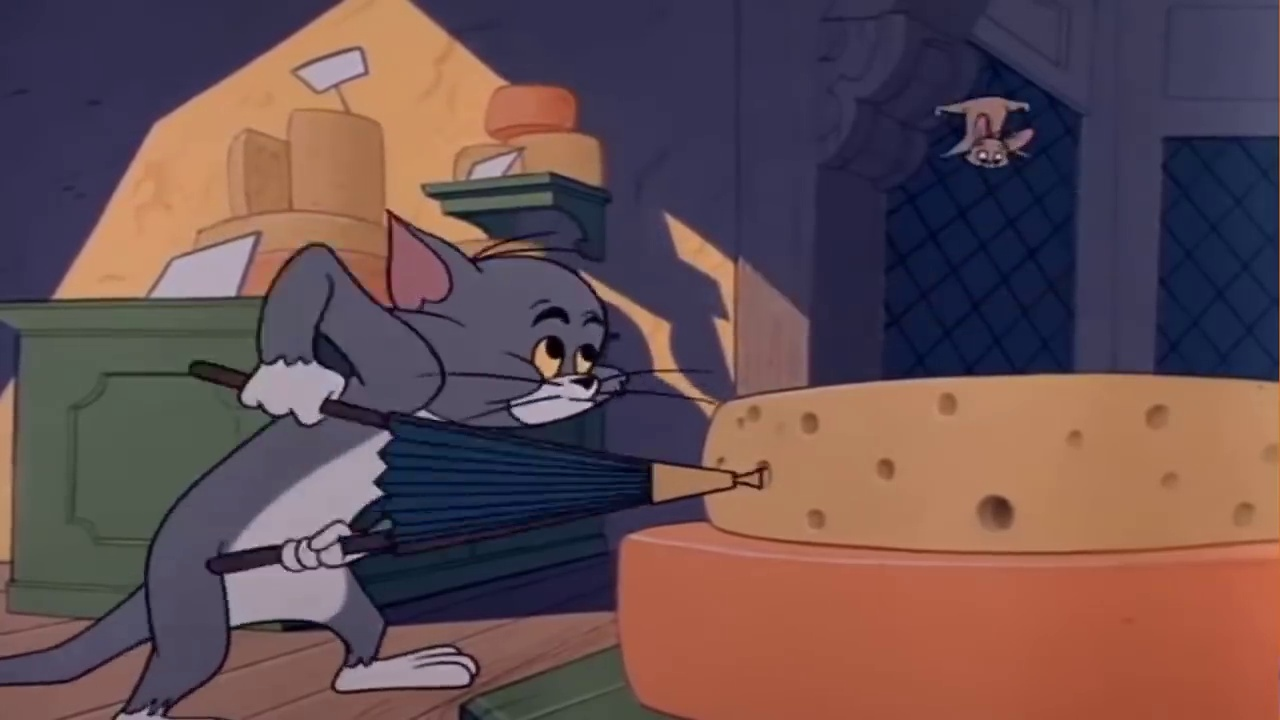face: (501, 291, 616, 430)
